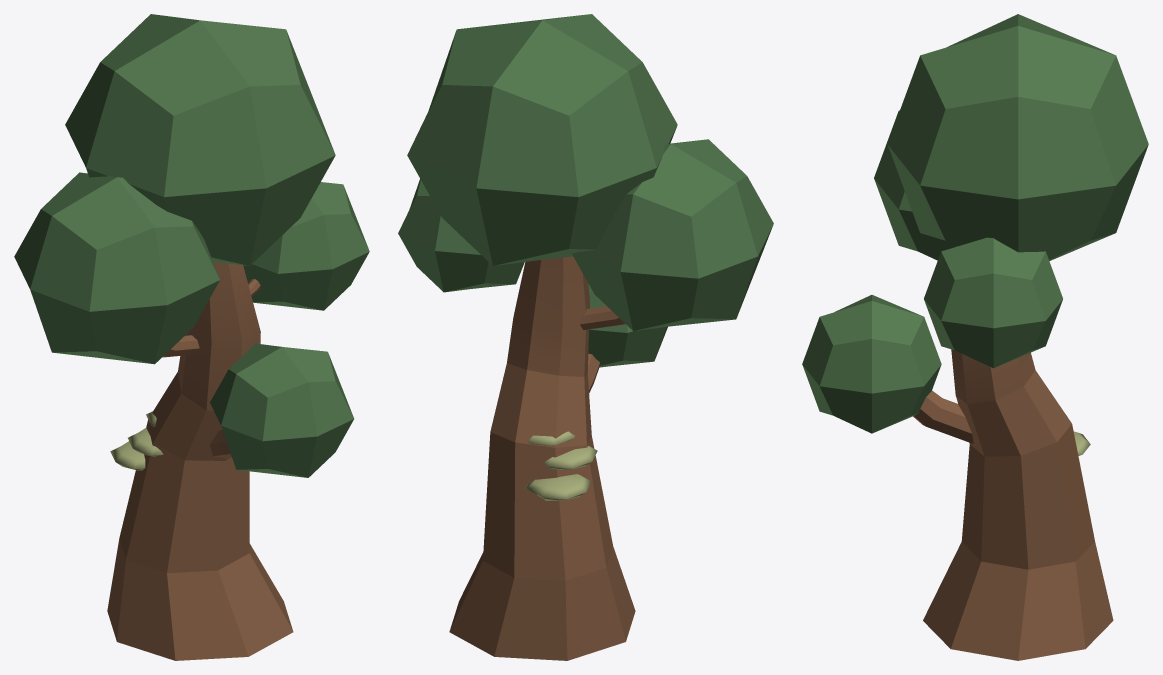
Rendered from atoll_deciduousTree_03.fbx.
3 views of the same model, side by side, from view 1: azimuth 30°, elevation 25°; view 2: azimuth 150°, elevation 25°; view 3: azimuth 270°, elevation 25° (orthographic).
Visible parts, largest first — view 1: pCube1, pCylinder1, pCube3, pCube4, pCube2, pCube7, pCube5; view 2: pCube1, pCylinder1, pCube3, pCube2, pCube4, pCube7, pCube5, pCylinder3; view 3: pCube1, pCylinder1, pCube4, pCube2, pCube3, pCylinder2.
Boxes of the visible parts, left/top/right/bottom form: pCube1: left=65, top=14, right=335, bottom=265; pCylinder1: left=107, top=262, right=293, bottom=660; pCube3: left=14, top=172, right=219, bottom=364; pCube4: left=210, top=343, right=354, bottom=477; pCube2: left=243, top=182, right=369, bottom=310; pCube7: left=110, top=441, right=145, bottom=470; pCube5: left=128, top=428, right=163, bottom=456; pCube1: left=407, top=14, right=677, bottom=265; pCylinder1: left=449, top=256, right=635, bottom=660; pCube3: left=572, top=139, right=773, bottom=330; pCube2: left=398, top=179, right=524, bottom=292; pCube4: left=588, top=283, right=667, bottom=367; pCube7: left=525, top=474, right=591, bottom=500; pCube5: left=542, top=446, right=597, bottom=469; pCylinder3: left=579, top=306, right=625, bottom=329; pCube1: left=887, top=14, right=1148, bottom=260; pCylinder1: left=923, top=349, right=1113, bottom=660; pCube4: left=802, top=295, right=941, bottom=433; pCube2: left=924, top=237, right=1062, bottom=368; pCube3: left=874, top=110, right=956, bottom=260; pCylinder2: left=913, top=390, right=973, bottom=443.
Bounding box in the file's own units: 538 × 913 × 482.
